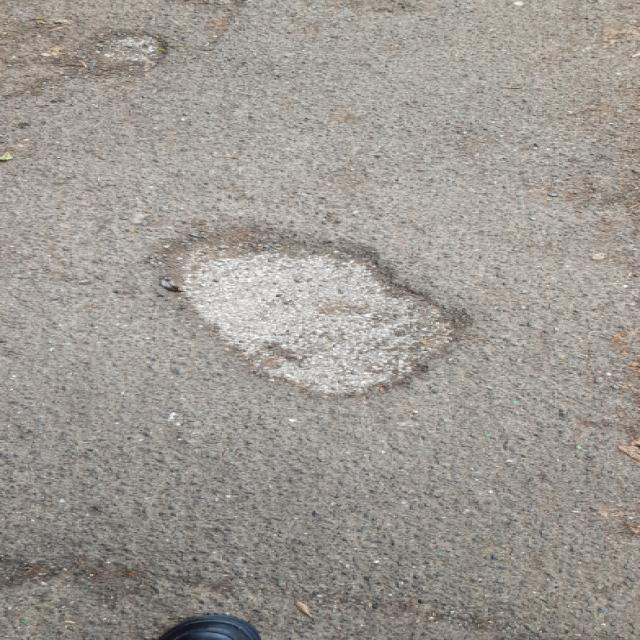pothole: (152, 222, 477, 402), (57, 26, 175, 82)
